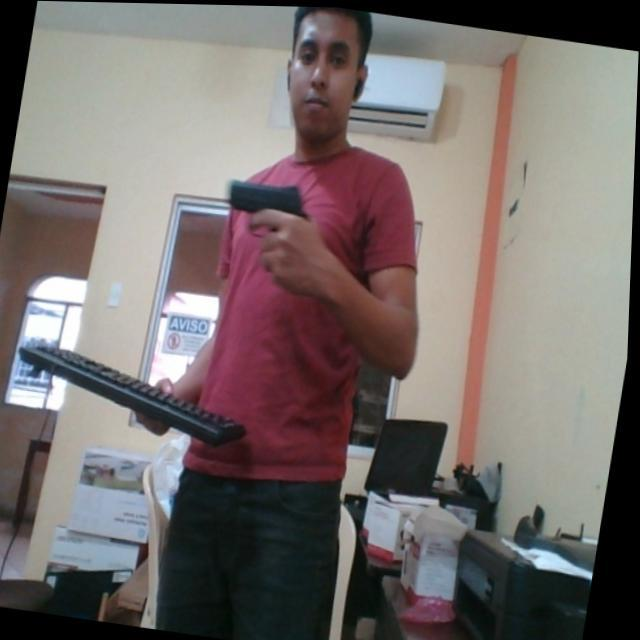weapon: (222, 173, 316, 244)
